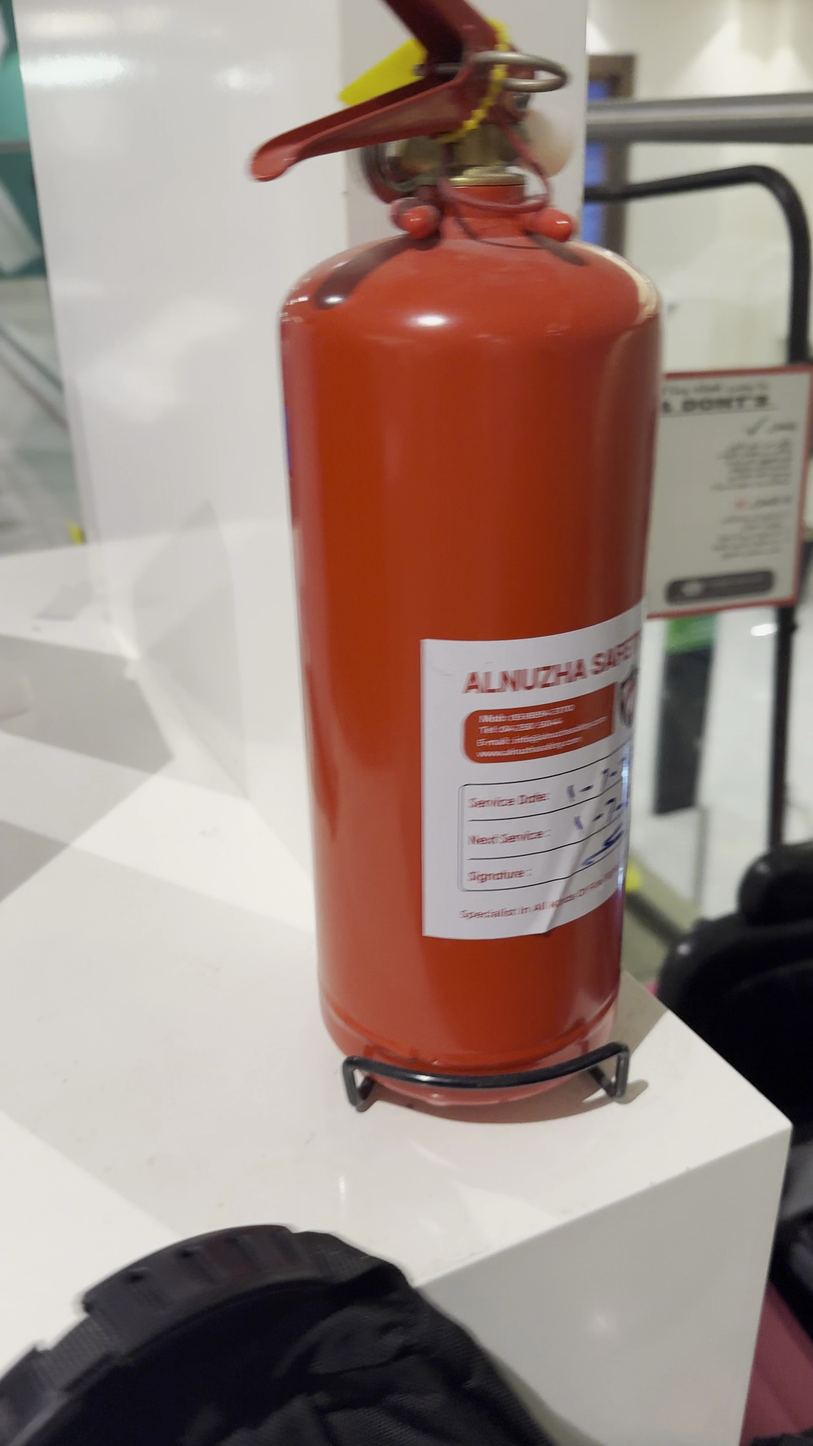fire_extinguisher: (249, 1, 665, 1118)
